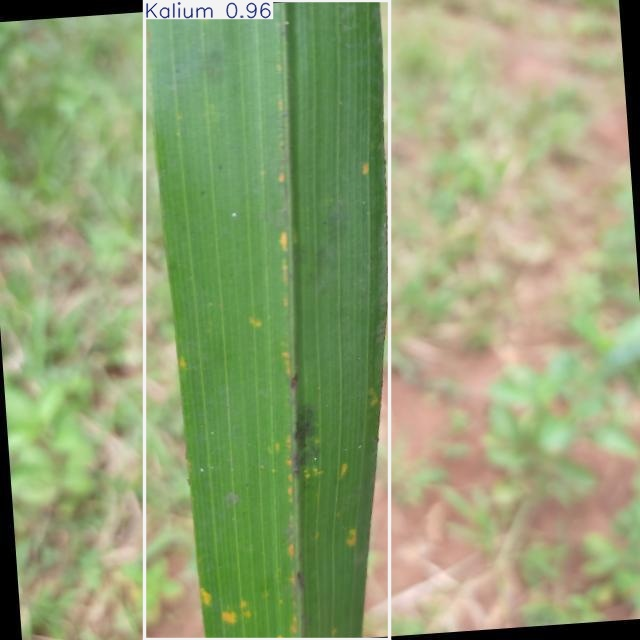Kalium: (145, 0, 389, 640)
